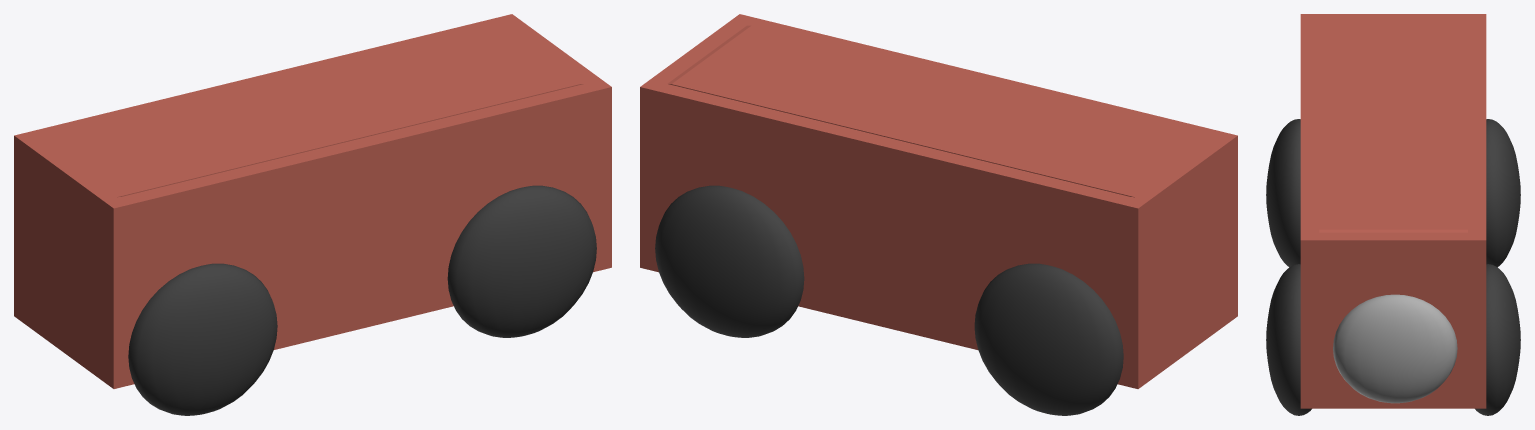
File: Carriage.fbx
The picture shows the model from 3 angles, left to right: view 1: azimuth 30°, elevation 25°; view 2: azimuth 150°, elevation 25°; view 3: azimuth 270°, elevation 25°; orthographic projection. The views are drawn at different scales.
Parts seen in each view (by area): view 1: polySurface178; view 2: polySurface178; view 3: polySurface178.
Boxes of the visible parts, x1,y1,x2,y2 form: polySurface178: (14,14,611,415); polySurface178: (640,14,1237,415); polySurface178: (1266,14,1520,415).
Size of the model in its own units: 3.03 by 1.25 by 1.37.
